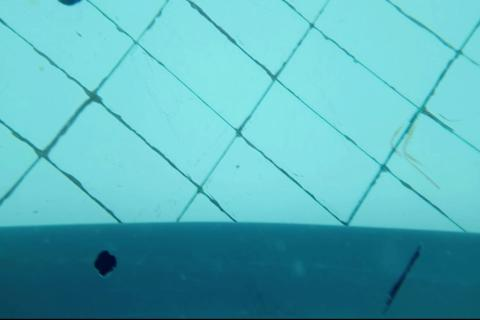kebocoran: (92, 248, 118, 278)
keretakan: (382, 248, 422, 314)
